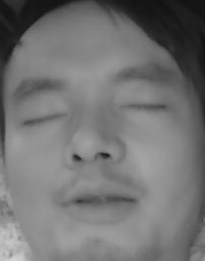blink: (119, 93, 167, 119), (23, 107, 68, 128)
mouth: (60, 175, 137, 226)
